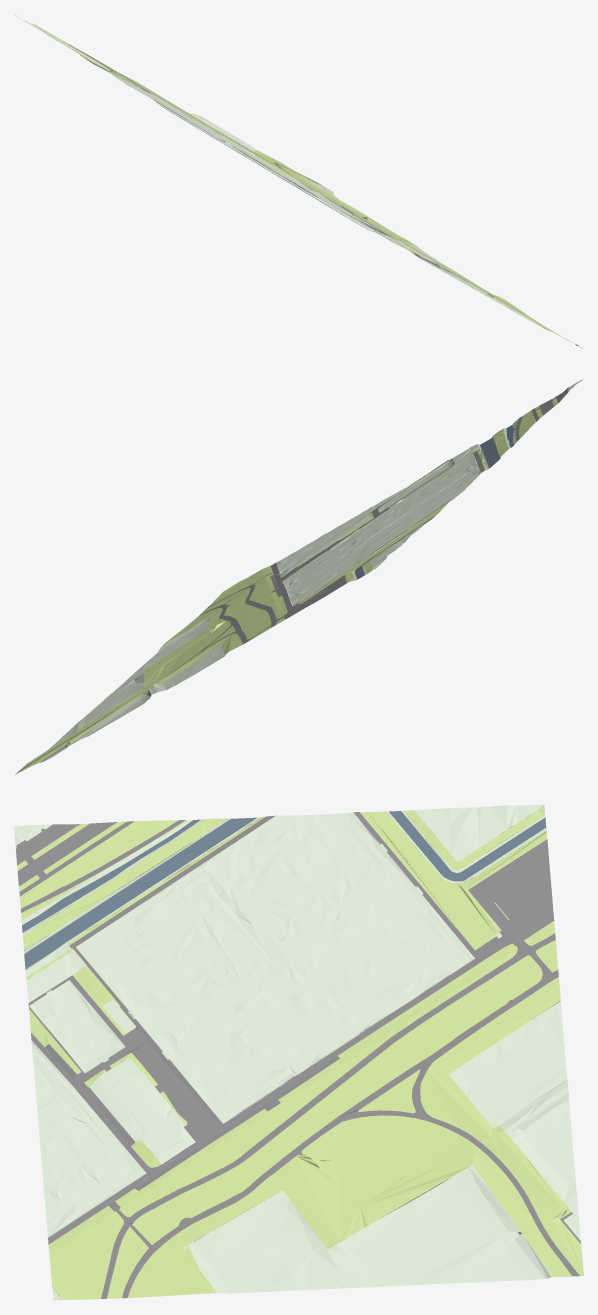
The picture shows the model from 3 angles, top to bottom: view 1: azimuth 30°, elevation 25°; view 2: azimuth 150°, elevation 25°; view 3: azimuth 270°, elevation 25°; orthographic projection. The views are drawn at different scales.
Size of the model in its own units: 218 by 156 by 268.
